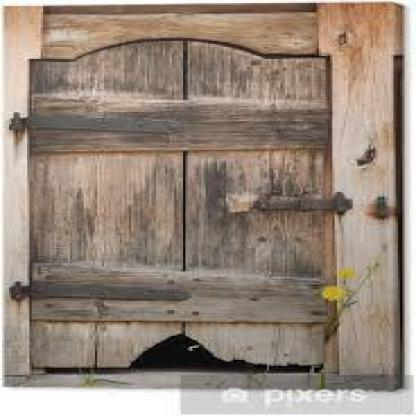door: (30, 59, 335, 363)
